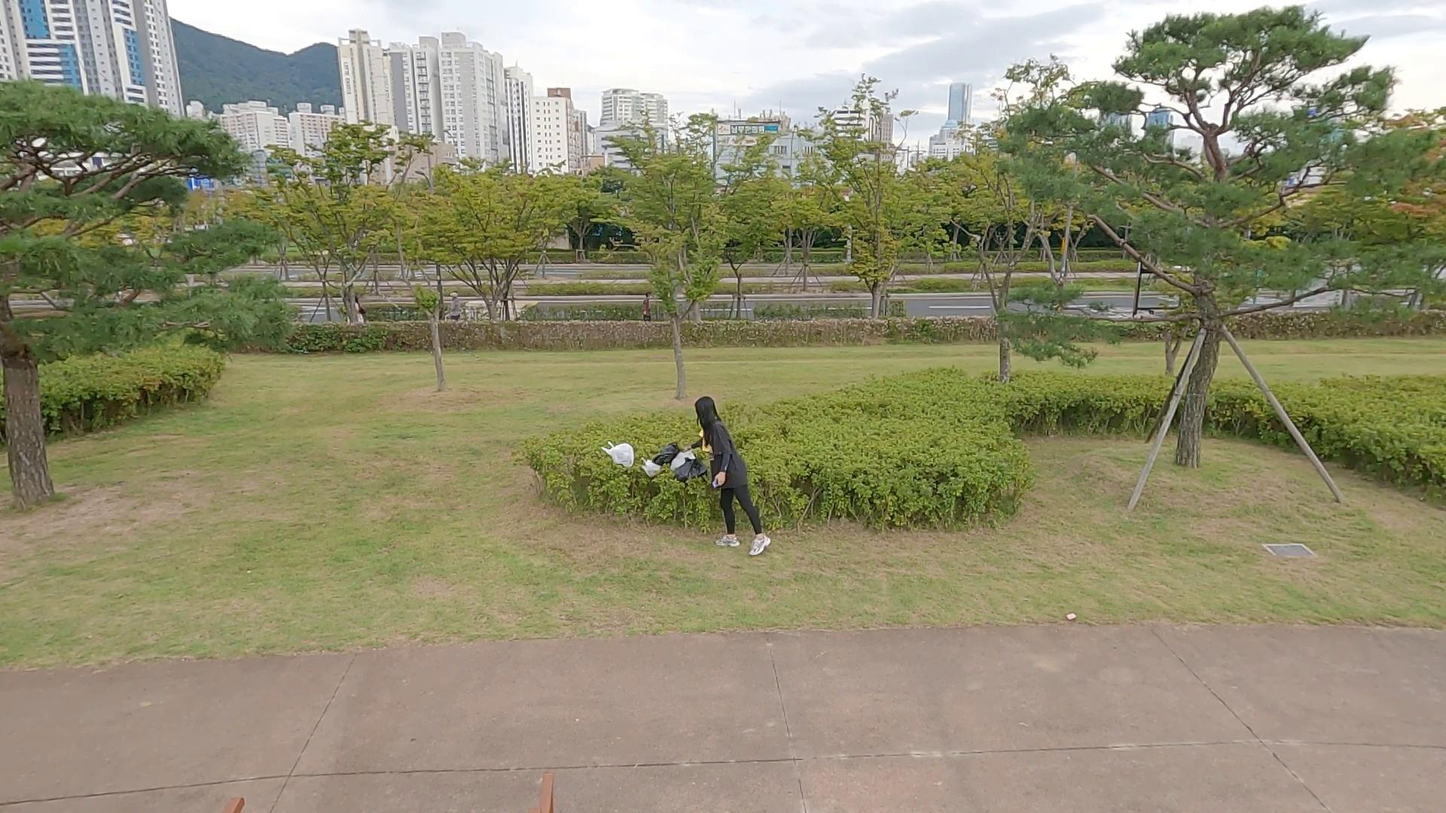person: (692, 394, 774, 557)
trash: (602, 439, 635, 467), (676, 455, 708, 483), (655, 441, 678, 468), (670, 448, 695, 471), (640, 457, 661, 478)
